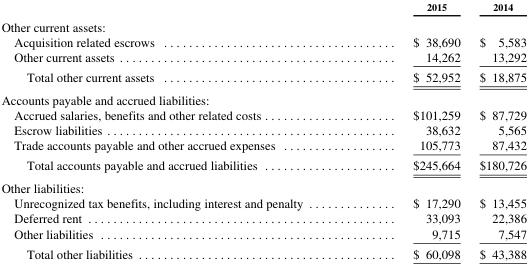table: (0, 0, 525, 260)
table column: (0, 0, 357, 260), (357, 0, 469, 260), (469, 0, 525, 260)
table column header: (0, 0, 525, 15)
table projected row header: (0, 88, 525, 107), (0, 176, 525, 195), (0, 15, 525, 33)
table row: (0, 66, 525, 88), (0, 155, 525, 176), (0, 88, 525, 107), (0, 176, 525, 195), (0, 15, 525, 33), (0, 48, 525, 66), (0, 137, 525, 155), (0, 225, 525, 243), (0, 243, 525, 260), (0, 0, 525, 15), (0, 33, 525, 48), (0, 107, 525, 122), (0, 122, 525, 137), (0, 195, 525, 210), (0, 210, 525, 225)
